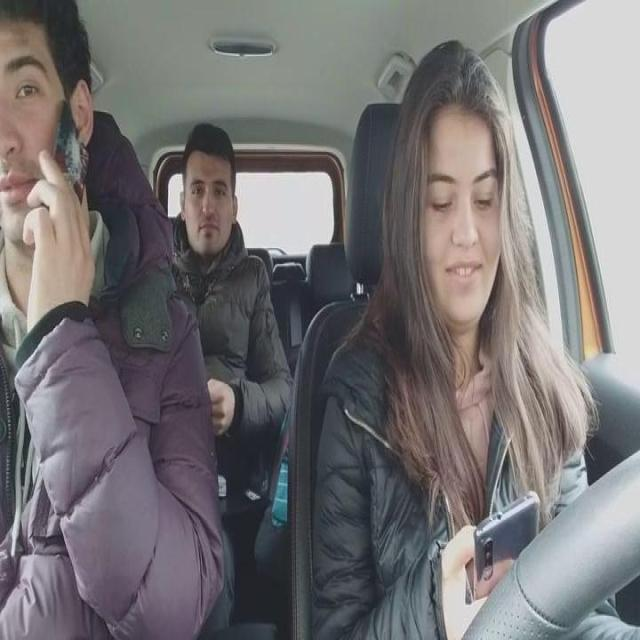phone: (466, 490, 542, 600), (51, 100, 90, 193)
